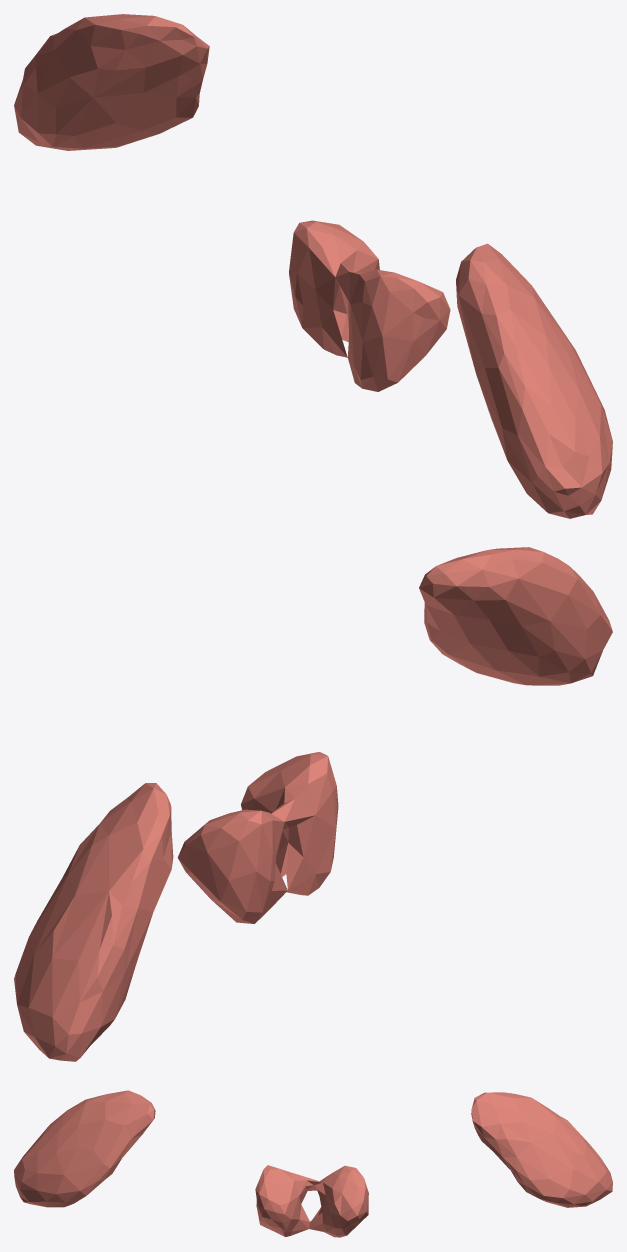
The picture shows the model from 3 angles, top to bottom: view 1: azimuth 30°, elevation 25°; view 2: azimuth 150°, elevation 25°; view 3: azimuth 270°, elevation 25°; orthographic projection. The views are drawn at different scales.
Parts seen in each view (by area): view 1: 557.obj; view 2: 557.obj; view 3: 557.obj.
Boxes of the visible parts, x1,y1,x2,y2 form: 557.obj: (14,14,612,518); 557.obj: (14,547,612,1061); 557.obj: (14,1090,612,1237).
Bounding box in the file's own units: 388 × 635 × 2554.
